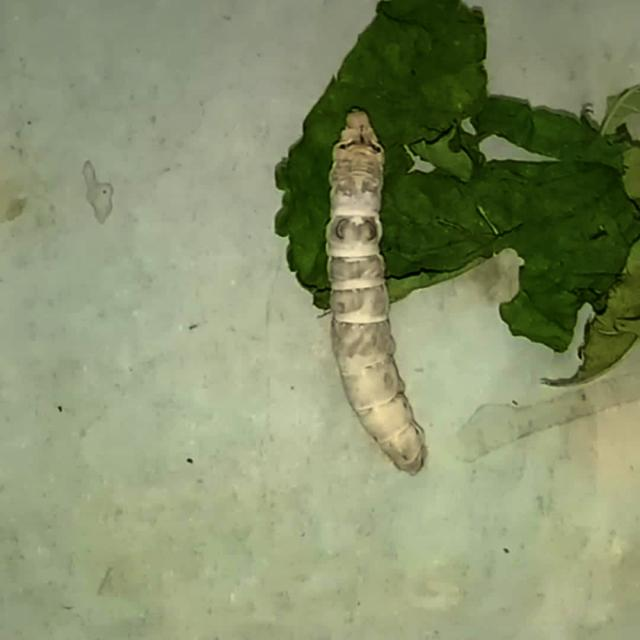Grasserie: (299, 101, 448, 481)
